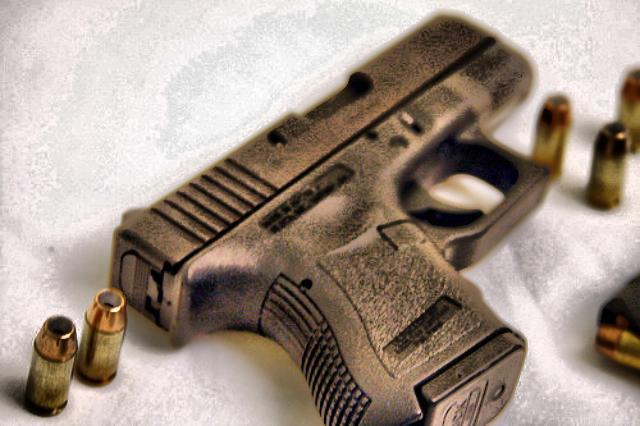pistol: (108, 11, 552, 425)
